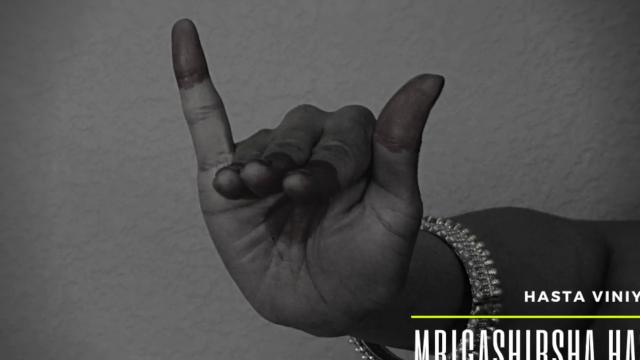mrighasheesh: (143, 22, 454, 326)
